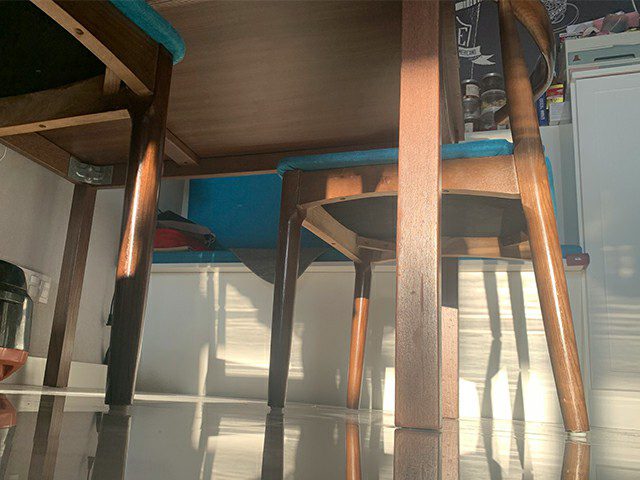cabinet: (565, 56, 639, 430)
stool: (268, 1, 590, 442), (1, 1, 187, 411)
table: (1, 1, 464, 431)
